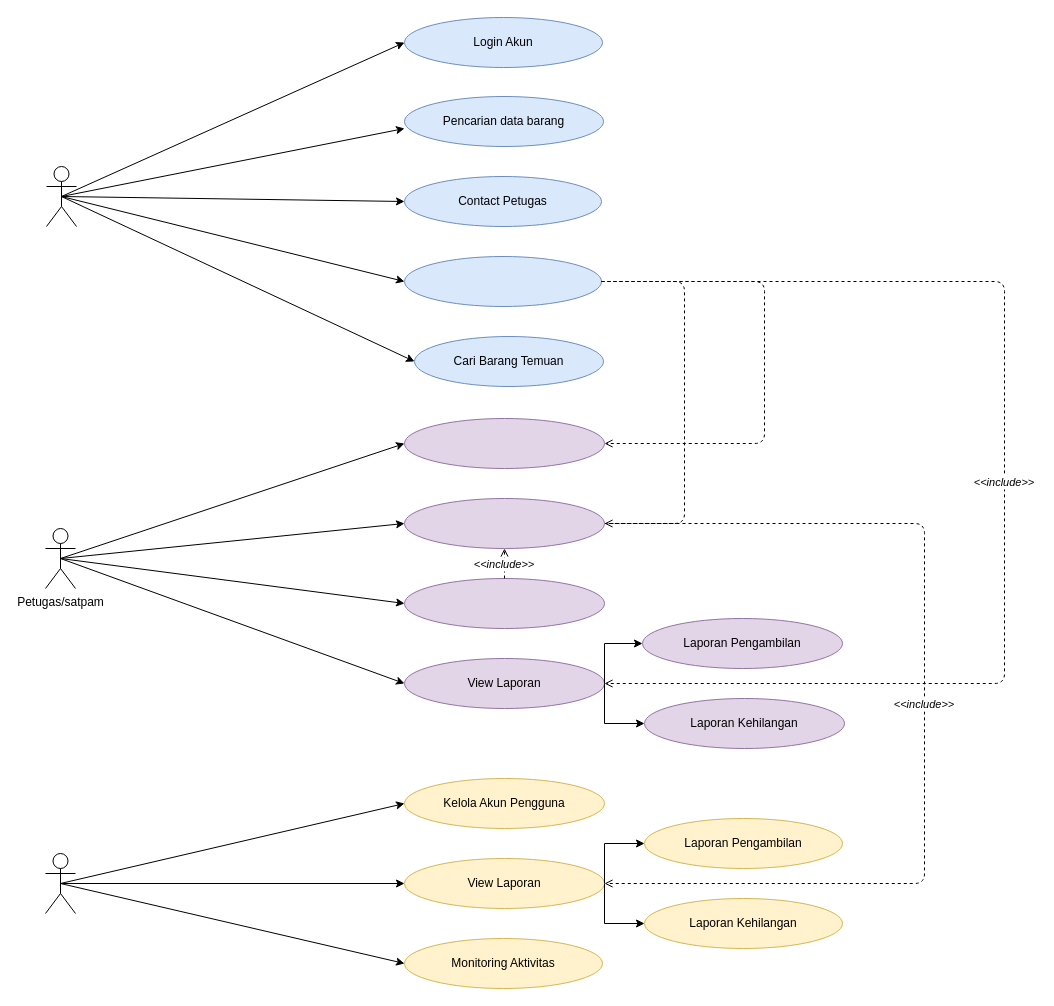
The diagram is 1054 pixels wide and 1006 high, and some of its shapes have lost their labels. The shapes that lost their labels are listed below. From the top down, each one's centre as x and y in pixels, then its label:
At [61,196]: "Mahasiswa".
At [503,281]: "Lapor Barang Hilang".
At [504,443]: "Verifikasi Laporan".
At [504,523]: "Kelola Data Barang Temuan".
At [504,603]: "Verifikasi pengambilan Barang".
At [60,883]: "super admin".
